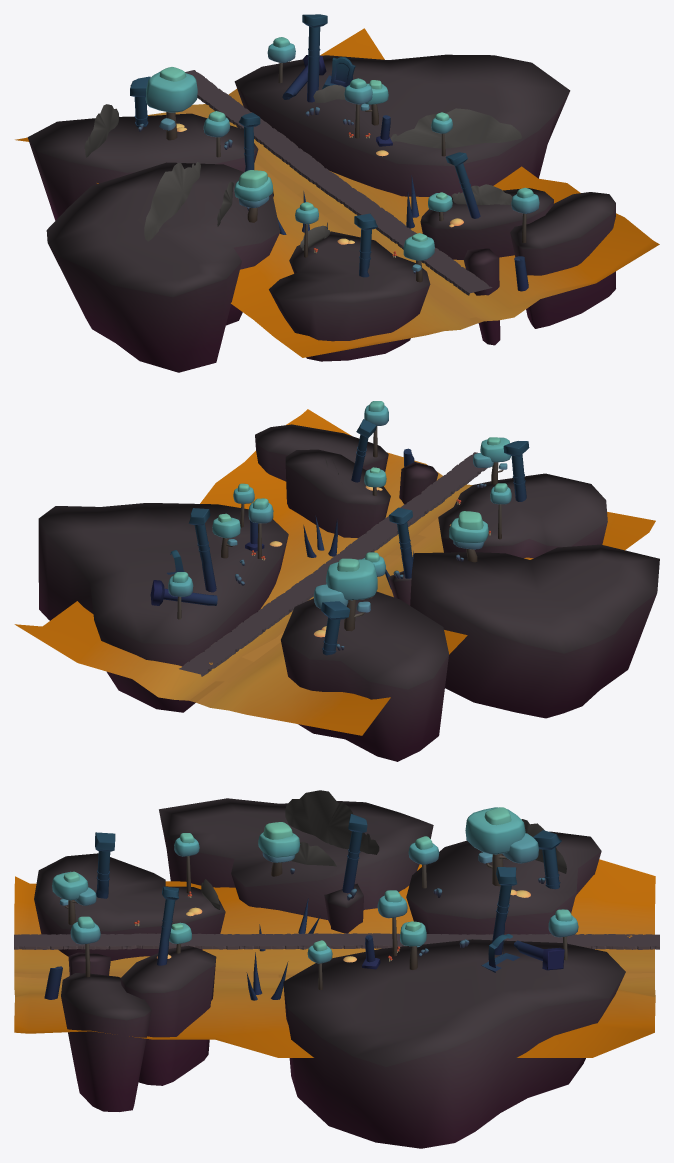
The model's file is stage3b.gltf.
3 views of the same model, one above another, from view 1: azimuth 30°, elevation 25°; view 2: azimuth 150°, elevation 25°; view 3: azimuth 270°, elevation 25° (orthographic). The views are drawn at different scales.
Parts seen in each view (by area): view 1: stage3b_GEO; view 2: stage3b_GEO; view 3: stage3b_GEO.
Part boxes in pixels (<box>): stage3b_GEO: <box>15,14,659,372</box>; stage3b_GEO: <box>14,401,659,761</box>; stage3b_GEO: <box>14,790,659,1148</box>.
Size of the model in its own units: 21849 by 7063 by 21000.
2 materials, 2 textured.
